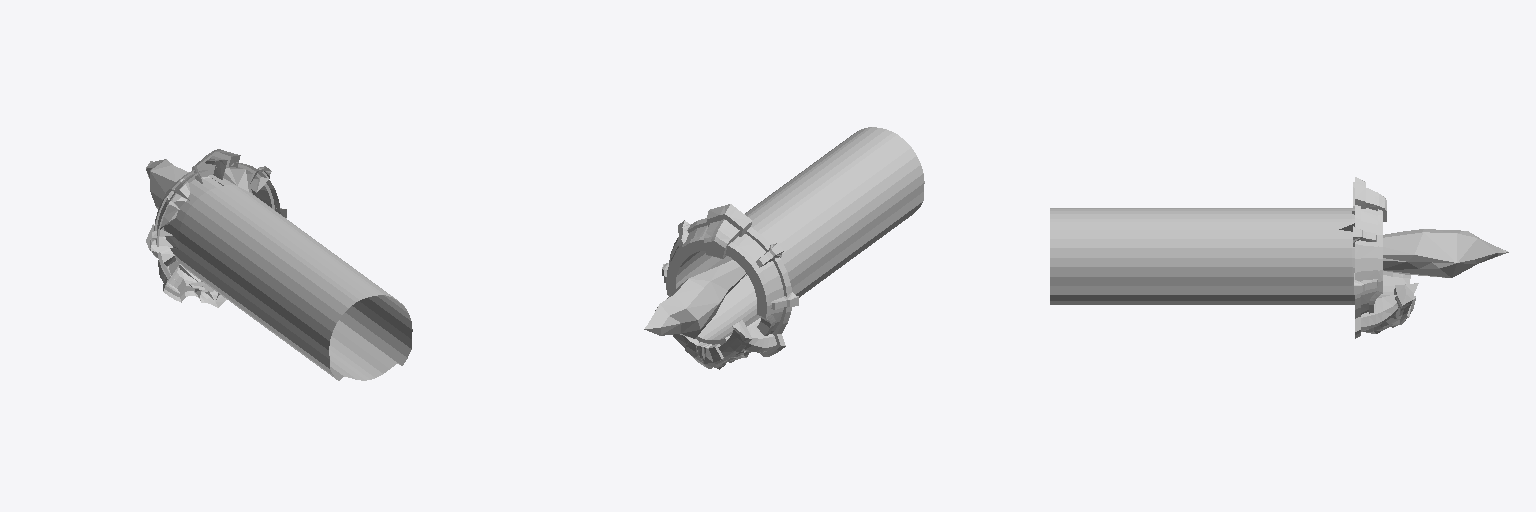
Rendered from cba.obj.
The picture shows the model from 3 angles: view 1: azimuth 30°, elevation 25°; view 2: azimuth 150°, elevation 25°; view 3: azimuth 270°, elevation 25°; orthographic projection.
Visible parts, largest first — view 1: lolMesh_sruap_chaosinhibitor; view 2: lolMesh_sruap_chaosinhibitor; view 3: lolMesh_sruap_chaosinhibitor.
Boxes of the visible parts, <box> form: lolMesh_sruap_chaosinhibitor: <box>146,149,412,380</box>; lolMesh_sruap_chaosinhibitor: <box>644,127,924,369</box>; lolMesh_sruap_chaosinhibitor: <box>1050,177,1508,338</box>.
Size of the model in its own units: 4.07 by 4.57 by 11.91.